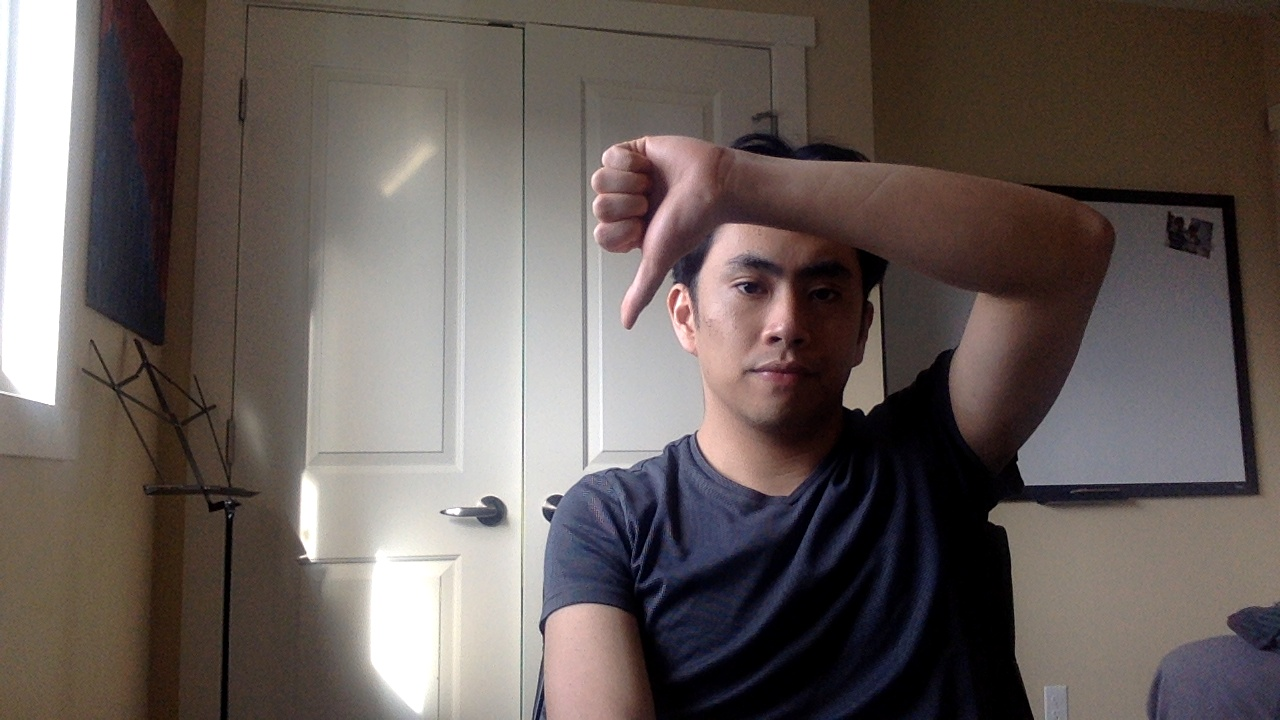ThumbsDown: (589, 129, 733, 332)
